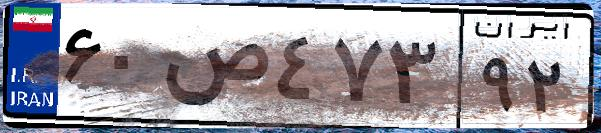0: (110, 28, 158, 98)
2: (525, 38, 570, 115)
3: (385, 28, 445, 110)
4: (270, 28, 330, 110)
6: (57, 26, 110, 100)
7: (330, 28, 385, 110)
9: (475, 38, 525, 113)
ص: (158, 20, 270, 120)
